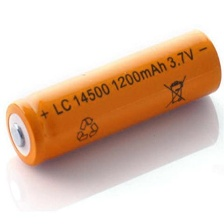battery: (2, 24, 224, 168), (5, 90, 222, 219)
